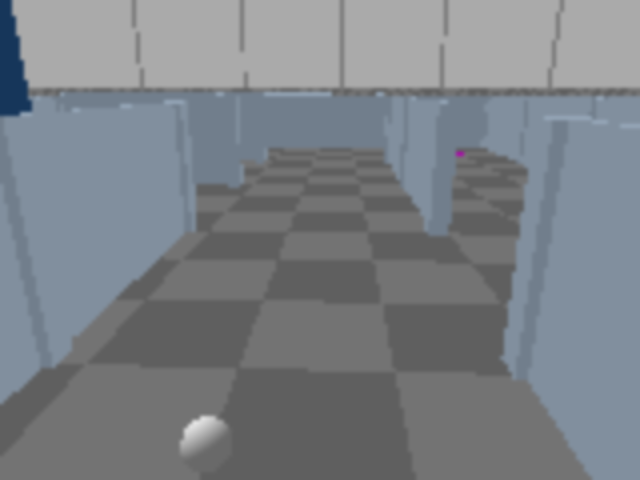person: (0, 0, 49, 346), (0, 0, 47, 340)
puck: (173, 405, 237, 478)
